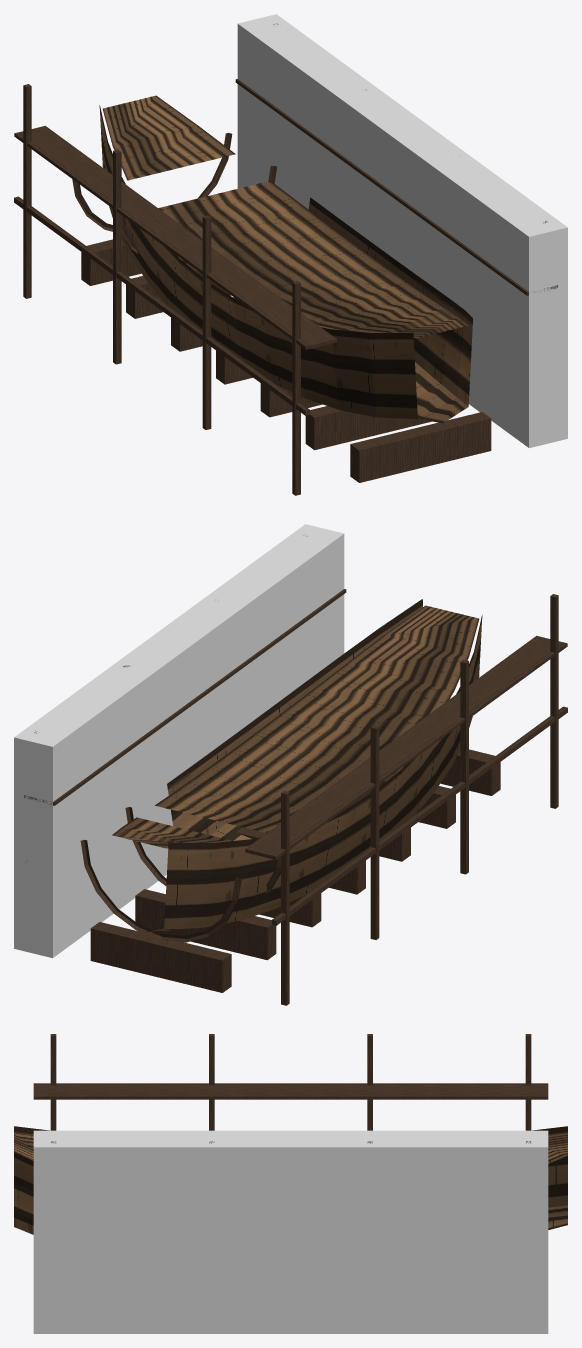
File: boat_on_stocks.glb
The picture shows the model from 3 angles, top to bottom: view 1: azimuth 30°, elevation 25°; view 2: azimuth 150°, elevation 25°; view 3: azimuth 270°, elevation 25°; orthographic projection. The views are drawn at different scales.
Parts seen in each view (by area): view 1: Scaffold-convcolonly.001, JunkHull, Stocks; view 2: Scaffold-convcolonly.001, JunkHull, Stocks; view 3: Scaffold-convcolonly.001, Stocks, JunkHull.
Boxes of the visible parts, x1,y1,x2,y2 form: Scaffold-convcolonly.001: (237,14,567,448); JunkHull: (99,95,472,422); Stocks: (14,23,557,495); Scaffold-convcolonly.001: (14,524,344,958); JunkHull: (112,599,482,933); Stocks: (24,536,567,1005); Scaffold-convcolonly.001: (33,1130,548,1333); Stocks: (33,1034,548,1143); JunkHull: (14,1126,567,1234).
Size of what is drawn, in the model's own units: 6.77 by 5.2 by 14.
Materials: 2 (2 with a texture image).
